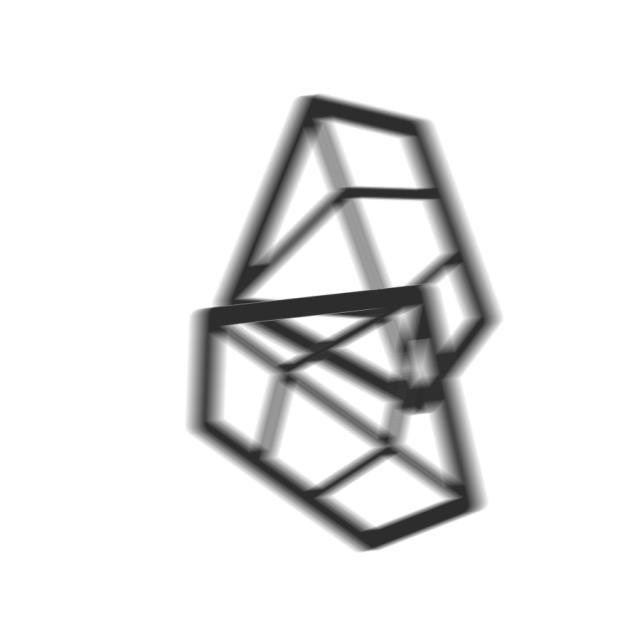diamond: (203, 84, 513, 429), (178, 294, 495, 559)
